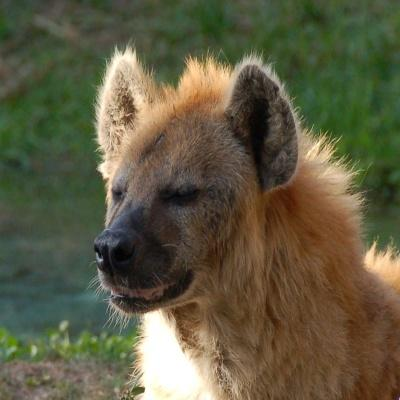hyenas: (15, 28, 400, 395)
